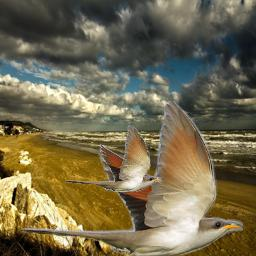Cuckoo: (20, 101, 243, 256), (65, 125, 162, 192)
